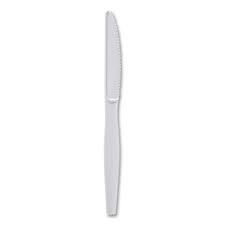Knife: (103, 9, 122, 216)
